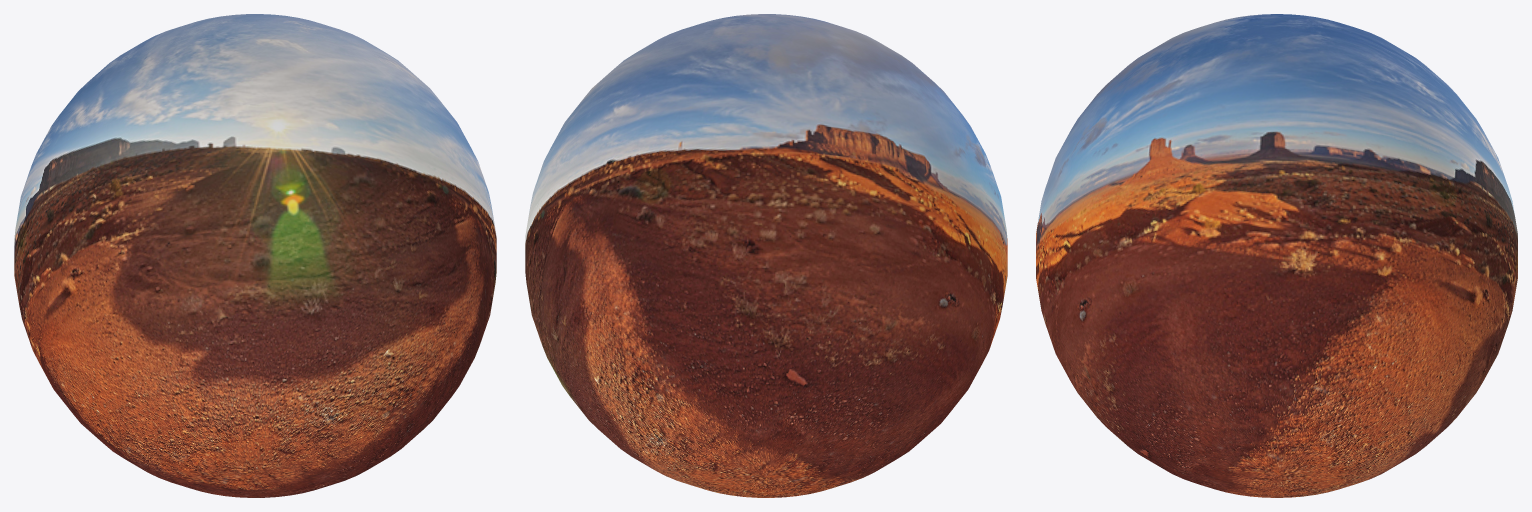
File: sky_pano_-_monument_valley_lookout_small.glb
3 renders of one model, left to right at view 1: azimuth 30°, elevation 25°; view 2: azimuth 150°, elevation 25°; view 3: azimuth 270°, elevation 25°, orthographic.
Parts seen in each view (by area): view 1: PanoSphere; view 2: PanoSphere; view 3: PanoSphere.
Part boxes in pixels (box(x1,y1,x2,y2)): PanoSphere: box(14, 14, 496, 497); PanoSphere: box(525, 14, 1007, 497); PanoSphere: box(1036, 14, 1517, 497).
Bounding box in the file's own units: 9.97 × 10 × 9.95.
Materials: 1 (1 with a texture image).
